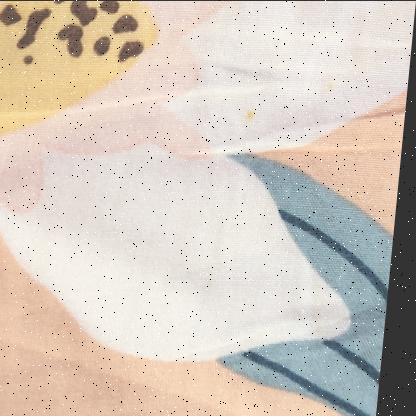spot: (244, 98, 268, 125), (324, 76, 341, 98)
